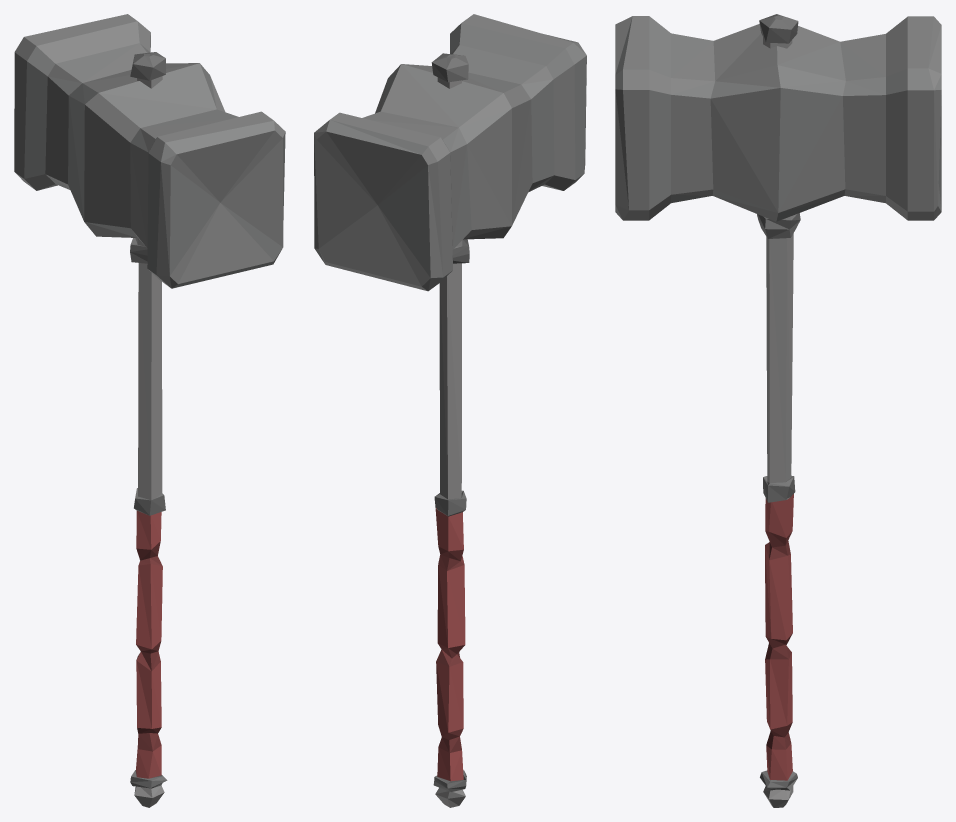
File: SFM_ARP_Hammer_001.fbx
3 renders of one model, left to right at view 1: azimuth 30°, elevation 25°; view 2: azimuth 150°, elevation 25°; view 3: azimuth 270°, elevation 25°, orthographic. The views are drawn at different scales.
Visible parts, largest first — view 1: SFM_ARP_Hammer_001; view 2: SFM_ARP_Hammer_001; view 3: SFM_ARP_Hammer_001.
Boxes of the visible parts, x1,y1,x2,y2 form: SFM_ARP_Hammer_001: (14, 14, 285, 807); SFM_ARP_Hammer_001: (314, 14, 586, 807); SFM_ARP_Hammer_001: (615, 14, 941, 807).
Bounding box in the file's own units: 24.56 × 137 × 51.33.
